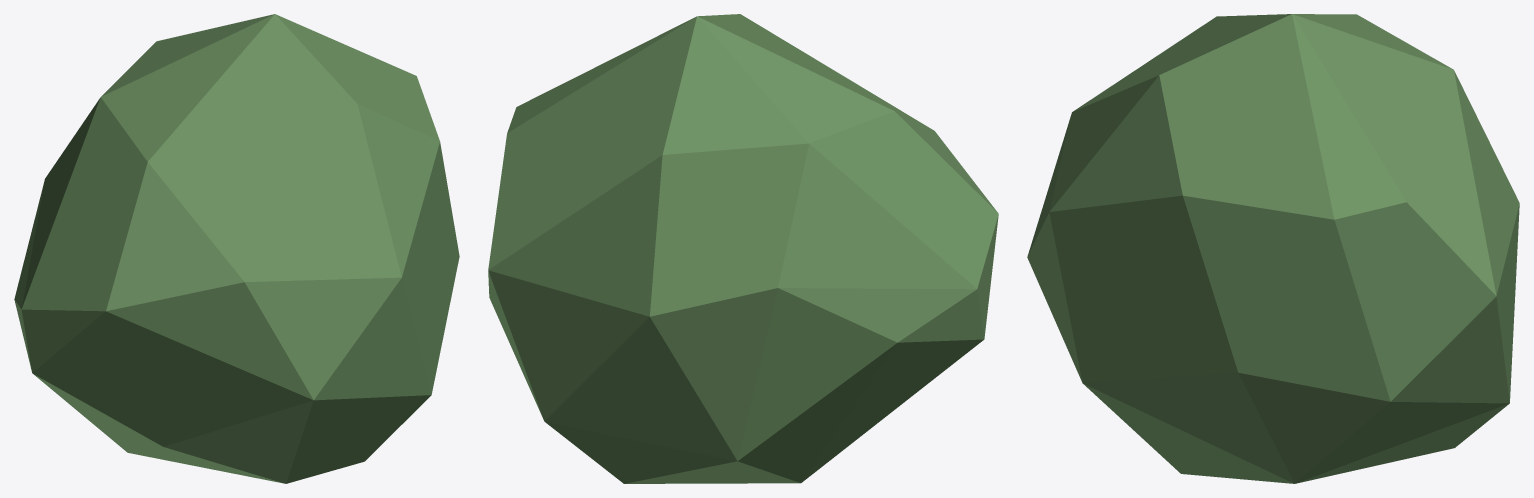
Rendered from env_bush1_mesh_01_v1.glb.
3 views of the same model, side by side, from view 1: azimuth 30°, elevation 25°; view 2: azimuth 150°, elevation 25°; view 3: azimuth 270°, elevation 25° (orthographic). The views are drawn at different scales.
Parts seen in each view (by area): view 1: Bush1_LOD0; view 2: Bush1_LOD0; view 3: Bush1_LOD0.
Part boxes in pixels (<box>): Bush1_LOD0: <box>14,14,459,483</box>; Bush1_LOD0: <box>488,14,998,483</box>; Bush1_LOD0: <box>1027,14,1519,483</box>.
Size of the model in its own units: 3.15 by 2.96 by 2.96.
